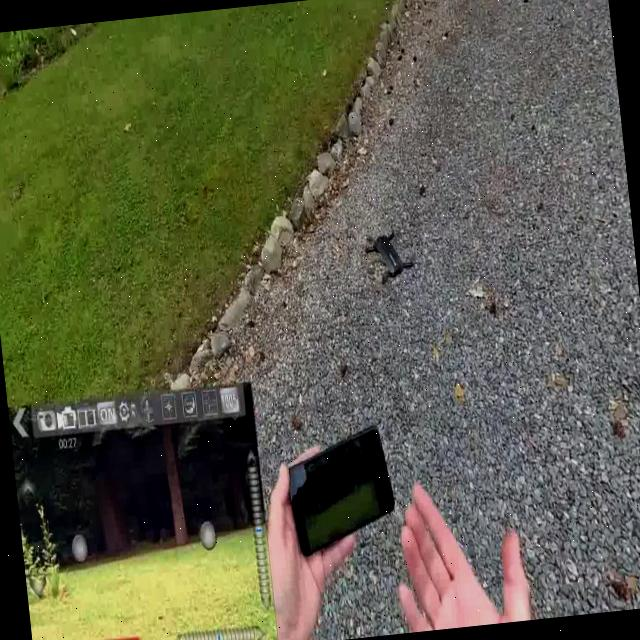drone: (340, 205, 440, 312)
